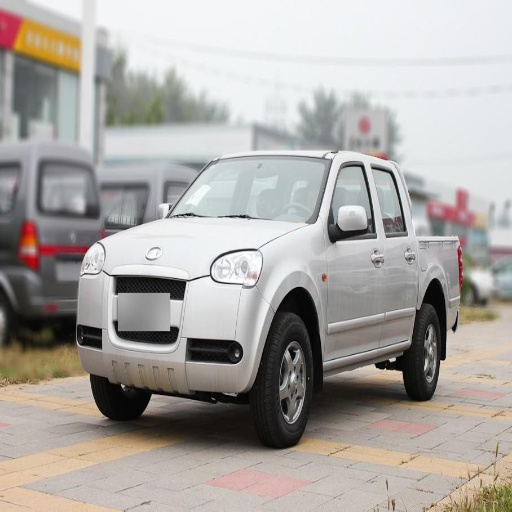front_bumper: (83, 259, 274, 393)
front_glass: (182, 157, 329, 221)
front_left_door: (326, 158, 382, 357)
trunk: (418, 235, 462, 317)
